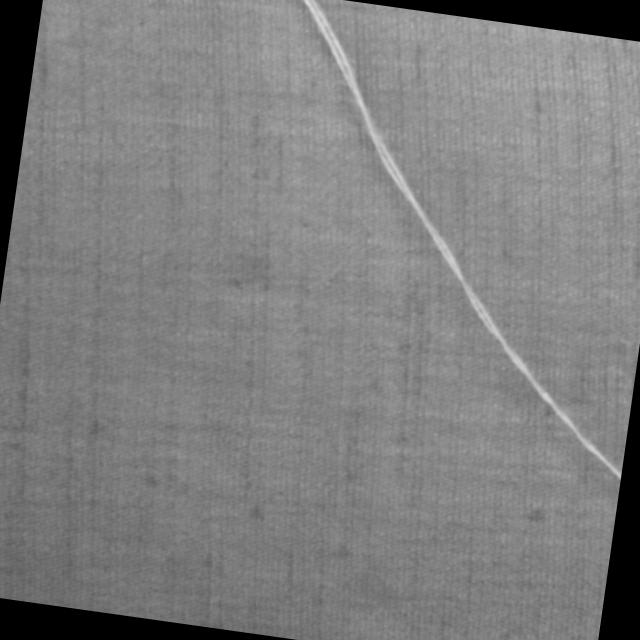Thread: (233, 0, 640, 482)
